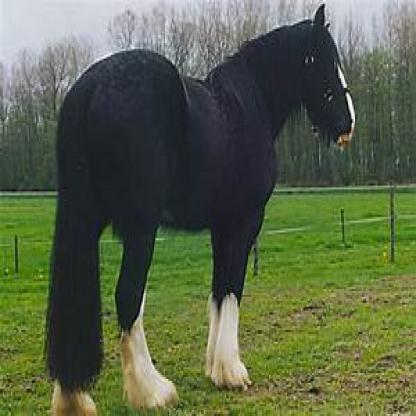horse: (44, 4, 360, 414)
